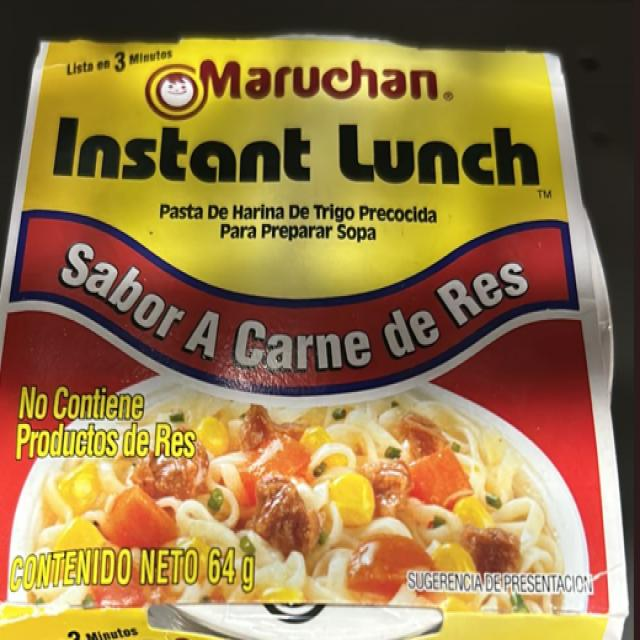maruchanRes: (32, 43, 571, 640)
